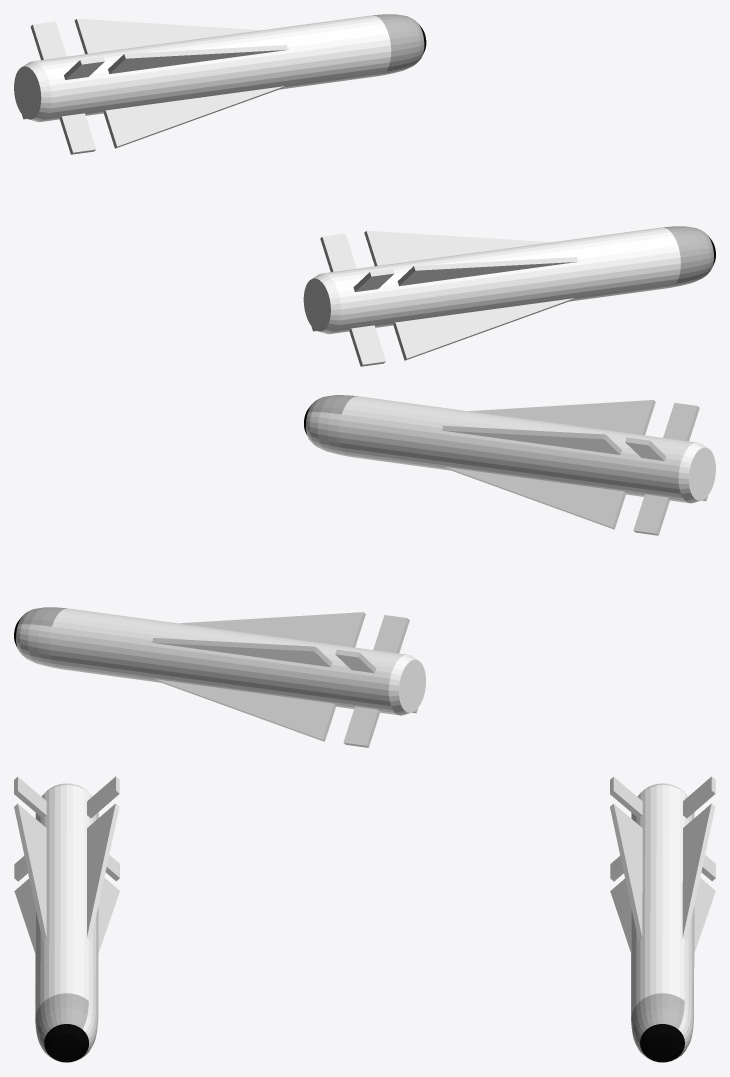
Rendered from a10cagm6547.glb.
3 renders of one model, top to bottom at view 1: azimuth 30°, elevation 25°; view 2: azimuth 150°, elevation 25°; view 3: azimuth 270°, elevation 25°, orthographic. The views are drawn at different scales.
Visible parts, largest first — view 1: 立方体.011, 立方体.007; view 2: 立方体.007, 立方体.011; view 3: 立方体.007, 立方体.011.
Boxes of the visible parts, x1,y1,x2,y2 form: 立方体.011: (14,14,426,154); 立方体.007: (303,226,715,366); 立方体.007: (304,395,715,535); 立方体.011: (14,607,425,747); 立方体.007: (14,776,119,1062); 立方体.011: (610,776,715,1062).
Bounding box in the file's own units: 2.52 × 0.6673 × 3.76.
Materials: 1 (1 with a texture image).
